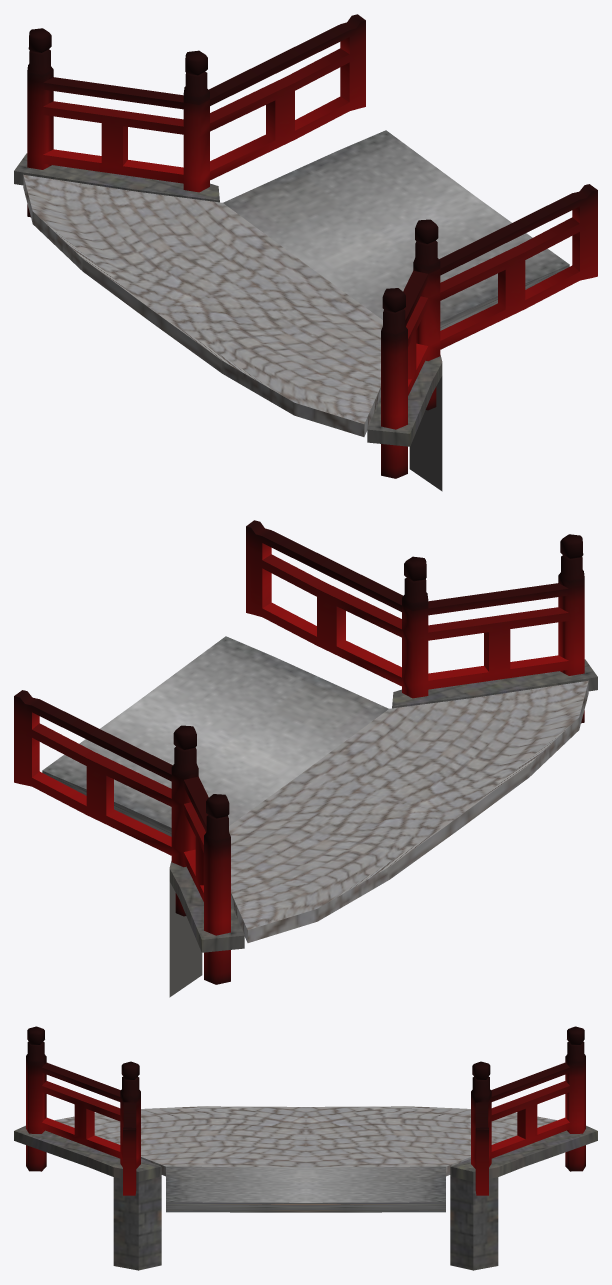
Rendered from bridgestart.fbx.
The picture shows the model from 3 angles, top to bottom: view 1: azimuth 30°, elevation 25°; view 2: azimuth 150°, elevation 25°; view 3: azimuth 270°, elevation 25°; orthographic projection. The views are drawn at different scales.
Visible parts, largest first — view 1: Cylinder; view 2: Cylinder; view 3: Cylinder.
Part boxes in pixels (bbox=[...]): Cylinder: bbox=[14, 14, 597, 491]; Cylinder: bbox=[14, 520, 597, 997]; Cylinder: bbox=[14, 1026, 597, 1270].
Bounding box in the file's own units: 850 × 652 × 1734.
1 material, 1 textured.
